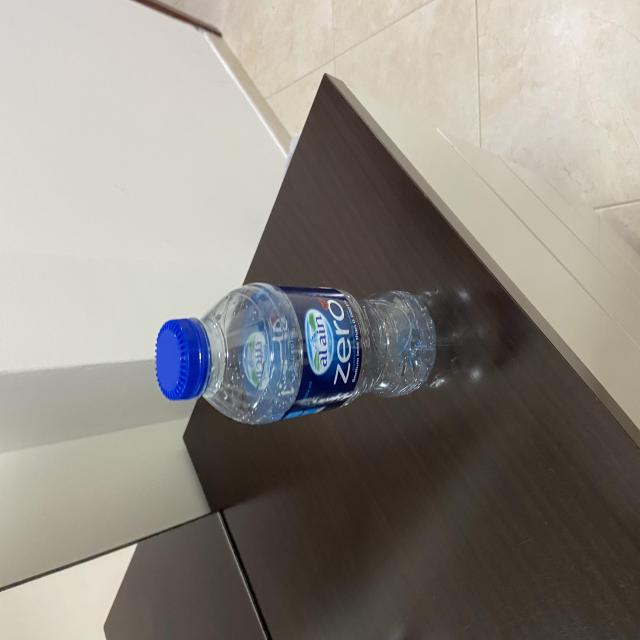bottle: (155, 280, 441, 433)
